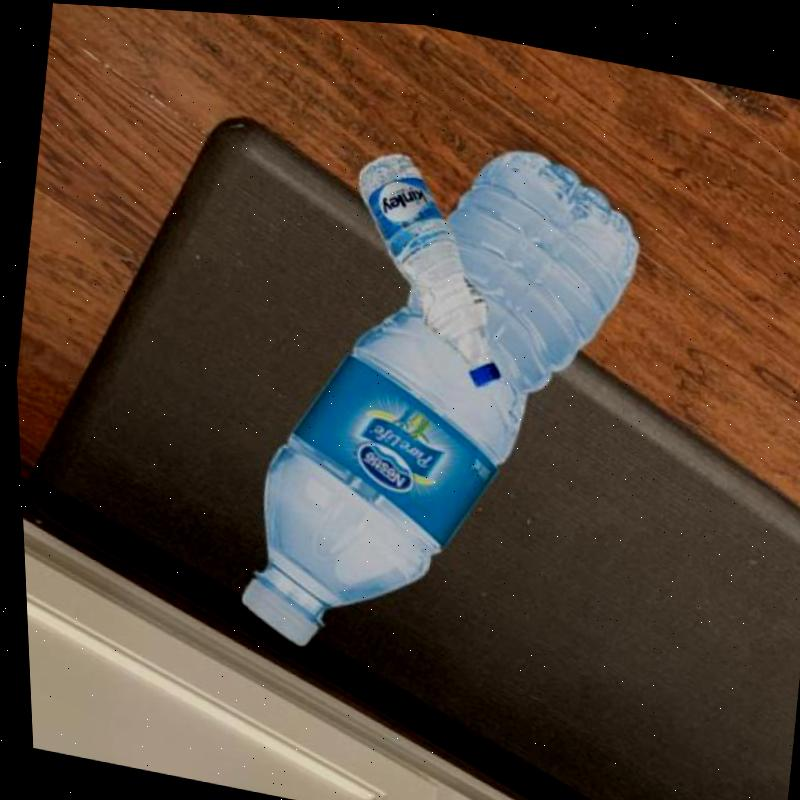botella: (207, 92, 666, 702), (325, 134, 530, 389)
